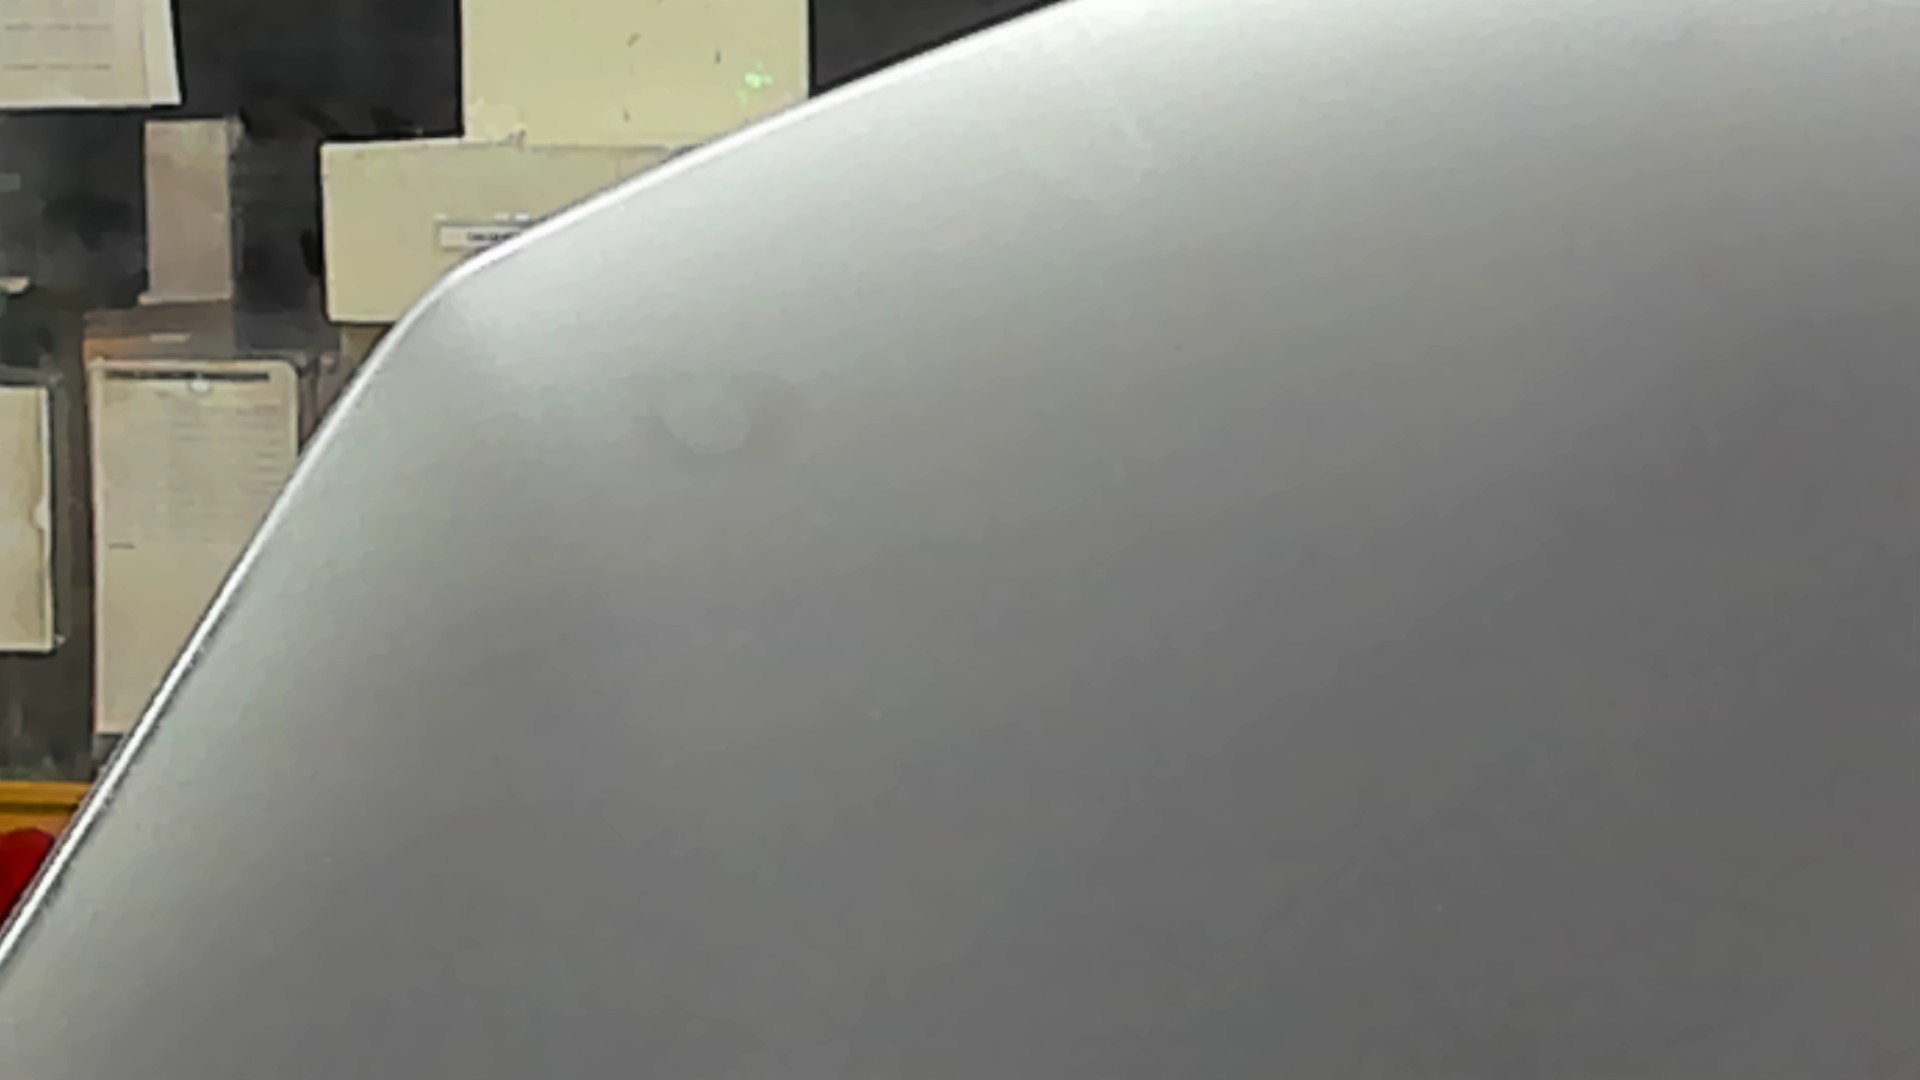capo: (673, 185, 1920, 1080)
